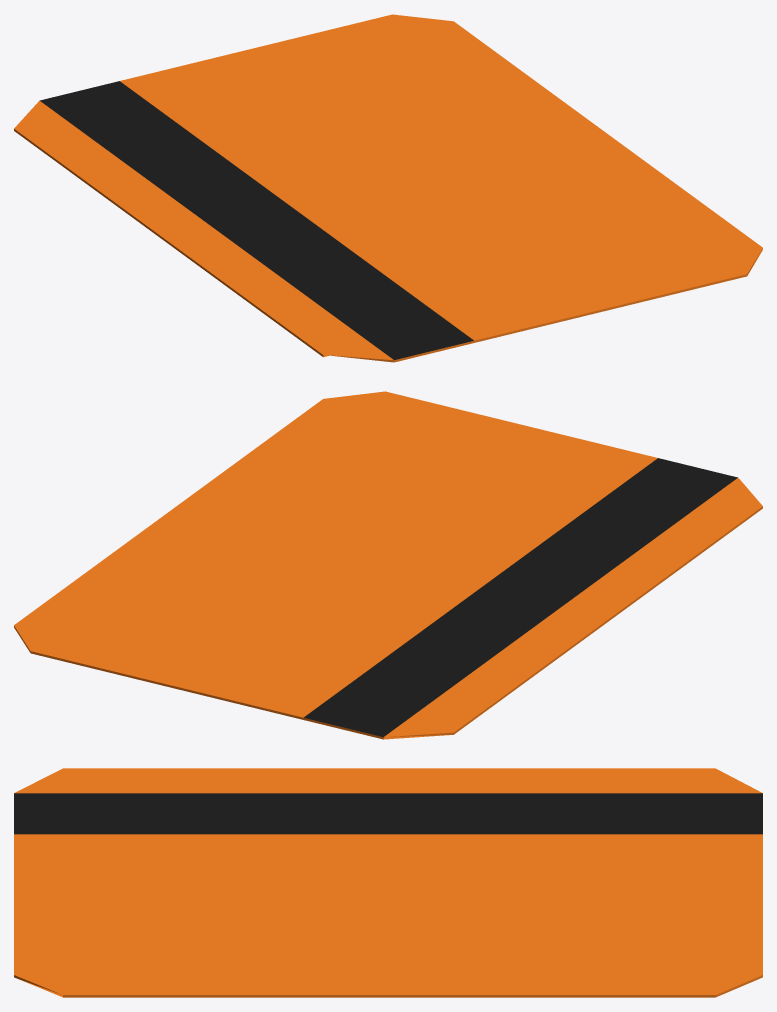
The model's file is Accescard.fbx.
The picture shows the model from 3 angles, top to bottom: view 1: azimuth 30°, elevation 25°; view 2: azimuth 150°, elevation 25°; view 3: azimuth 270°, elevation 25°; orthographic projection. The views are drawn at different scales.
Visible parts, largest first — view 1: Plane; view 2: Plane; view 3: Plane.
Boxes of the visible parts, x1,y1,x2,y2 form: Plane: (14, 14, 762, 362); Plane: (14, 391, 762, 739); Plane: (14, 768, 762, 997).
Size of the model in its own units: 6.14 by 0.0307 by 8.58.
